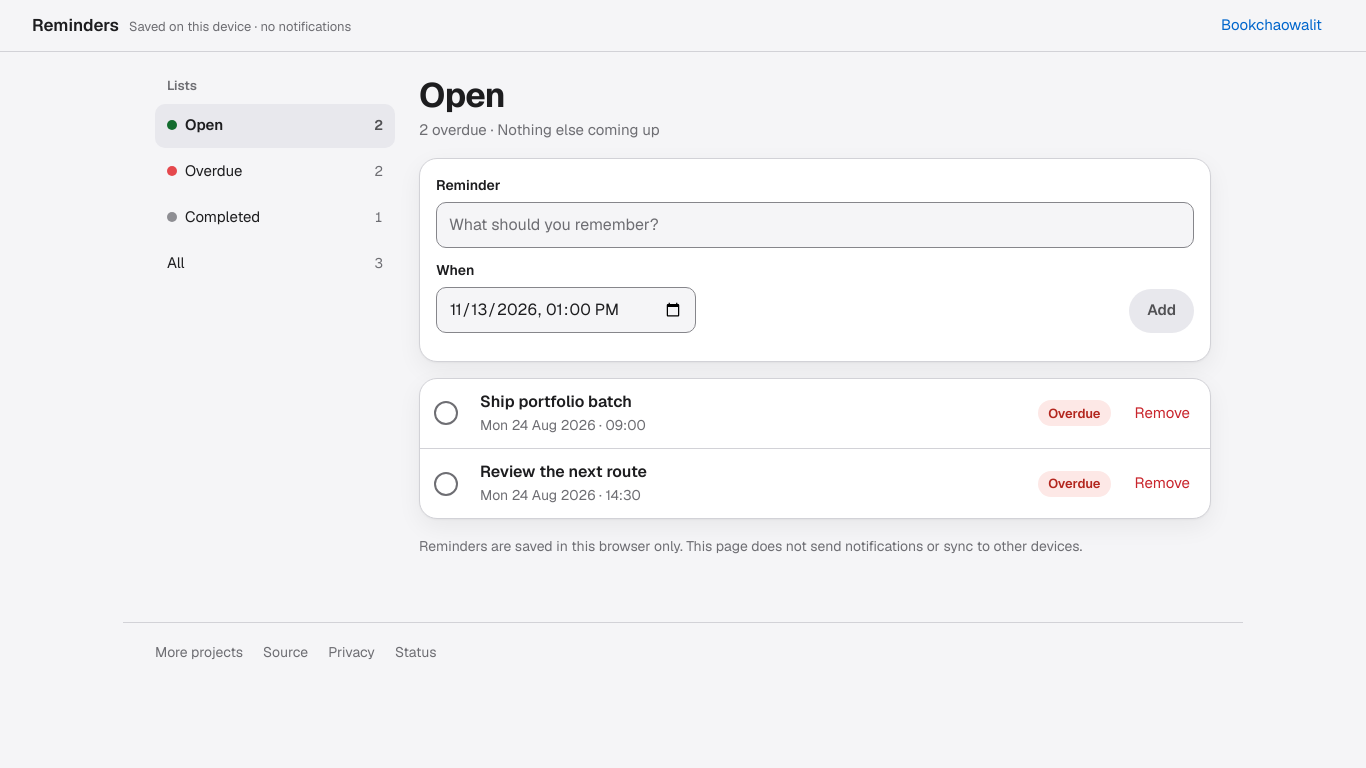
Scenario: remove and undo › keyboard removal focuses Undo; Undo restores and focus returns to the reminder field
Later steps or results of the test are not shown.
Click the button with aria-label "Remove Review the next route": (1162, 484) x1=1123 y1=462 x2=1202 y2=506
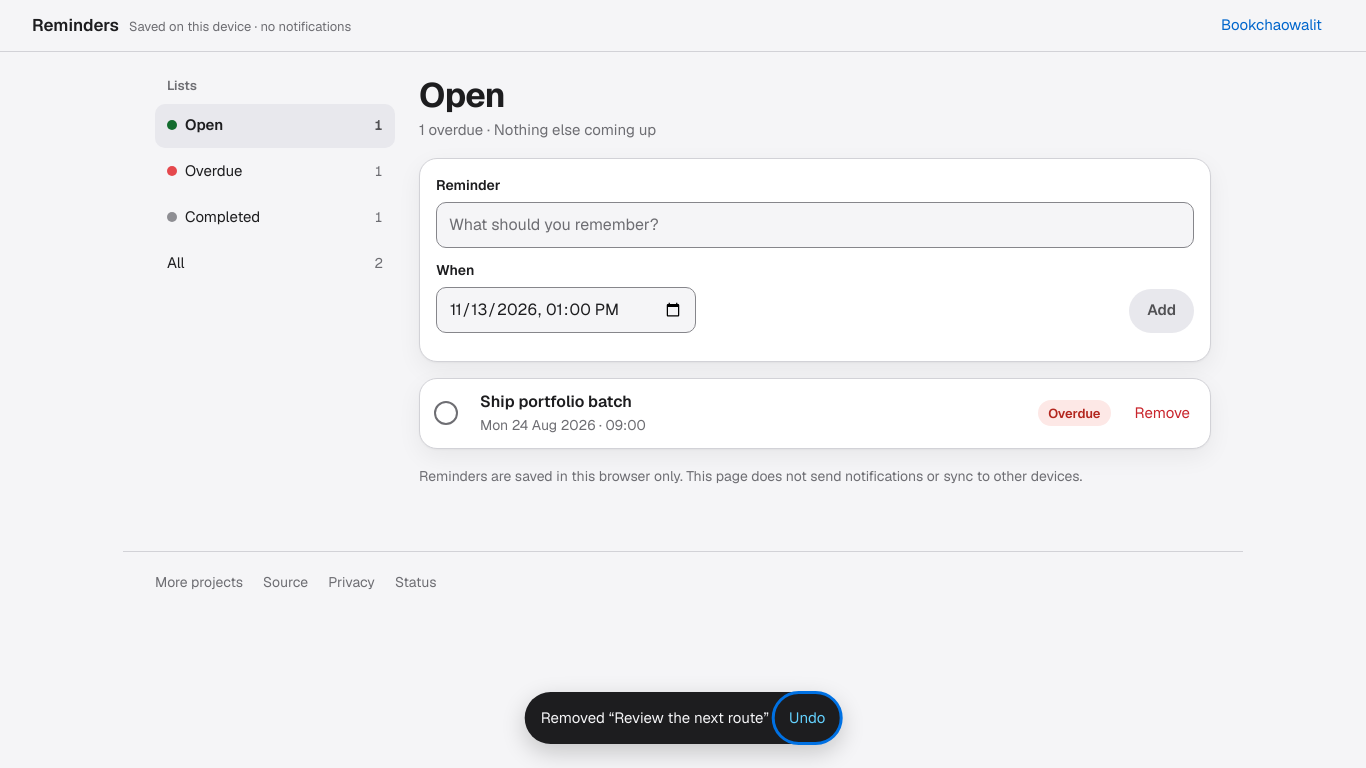
Check: the button "Undo" is shown, box x1=777 y1=696 x2=837 y2=740
